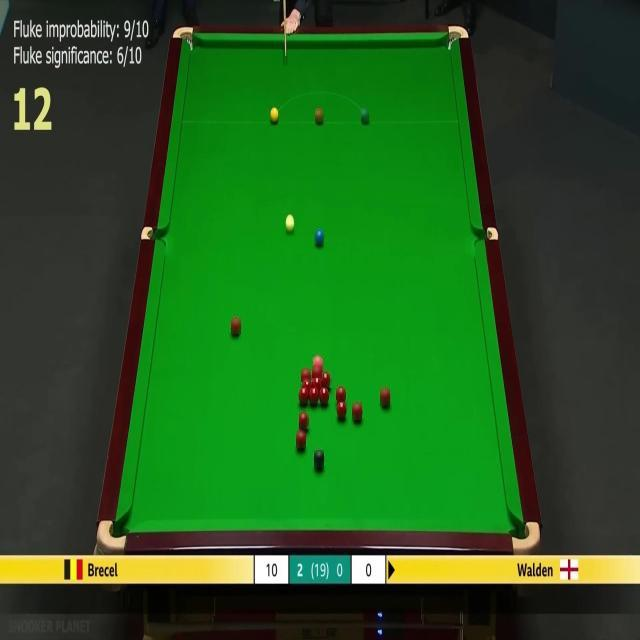Ball: (296, 430, 306, 448), (380, 388, 390, 406), (298, 387, 308, 405), (308, 387, 318, 405), (285, 214, 295, 232), (352, 403, 362, 420), (314, 451, 324, 468), (300, 412, 310, 429), (319, 387, 329, 404), (336, 401, 346, 418), (231, 318, 241, 334), (314, 354, 324, 370), (322, 372, 332, 388), (314, 229, 324, 244), (270, 108, 279, 124), (302, 380, 312, 394), (302, 368, 312, 382), (336, 388, 346, 400), (312, 376, 322, 388), (312, 366, 322, 378), (316, 109, 324, 122), (362, 109, 369, 122)
